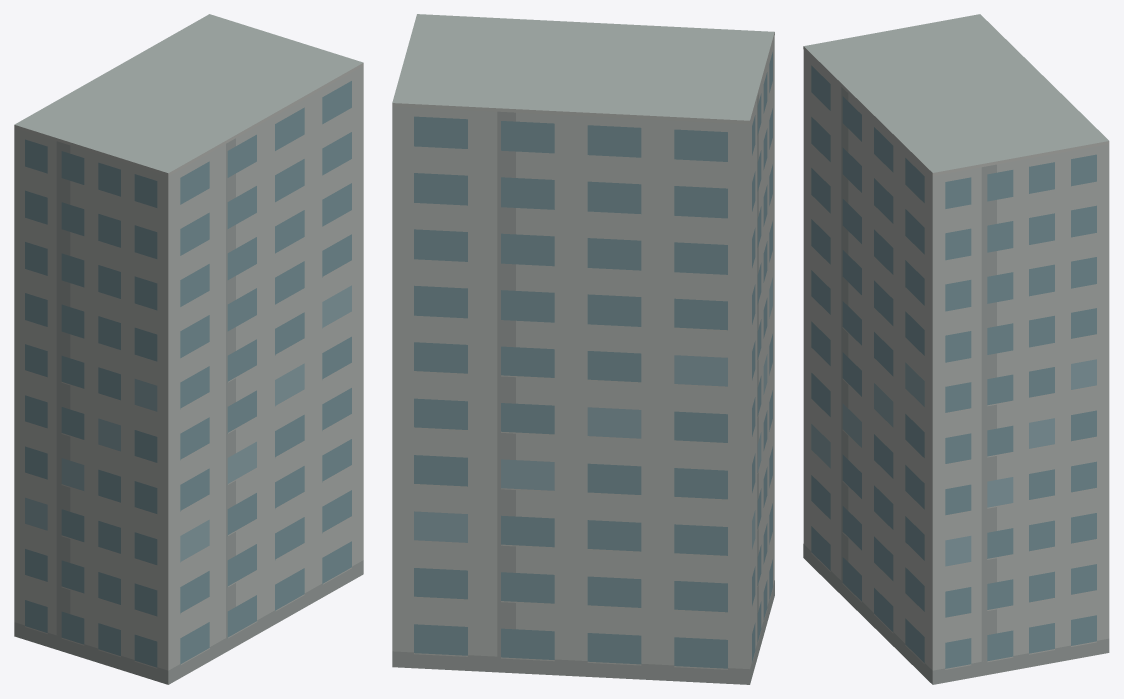
Rendered from residential-146e5269-a637-48d7-9f9b-076714d6c067.glb.
The picture shows the model from 3 angles, left to right: view 1: azimuth 30°, elevation 25°; view 2: azimuth 150°, elevation 25°; view 3: azimuth 270°, elevation 25°; orthographic projection. The views are drawn at different scales.
Parts seen in each view (by area): view 1: residential-146e5269-a637-48d7-9f9b-076714d6c067.tmp; view 2: residential-146e5269-a637-48d7-9f9b-076714d6c067.tmp; view 3: residential-146e5269-a637-48d7-9f9b-076714d6c067.tmp.
Part boxes in pixels (bbox=[...]): residential-146e5269-a637-48d7-9f9b-076714d6c067.tmp: bbox=[14, 14, 363, 684]; residential-146e5269-a637-48d7-9f9b-076714d6c067.tmp: bbox=[392, 14, 774, 684]; residential-146e5269-a637-48d7-9f9b-076714d6c067.tmp: bbox=[803, 14, 1109, 684].
Bounding box in the file's own units: 26.66 × 40 × 21.67.
